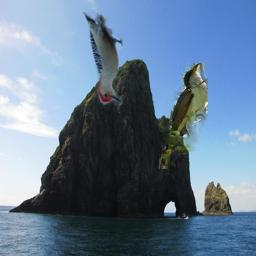Cuckoo: (159, 63, 208, 169)
Woodpecker: (83, 12, 123, 105)
